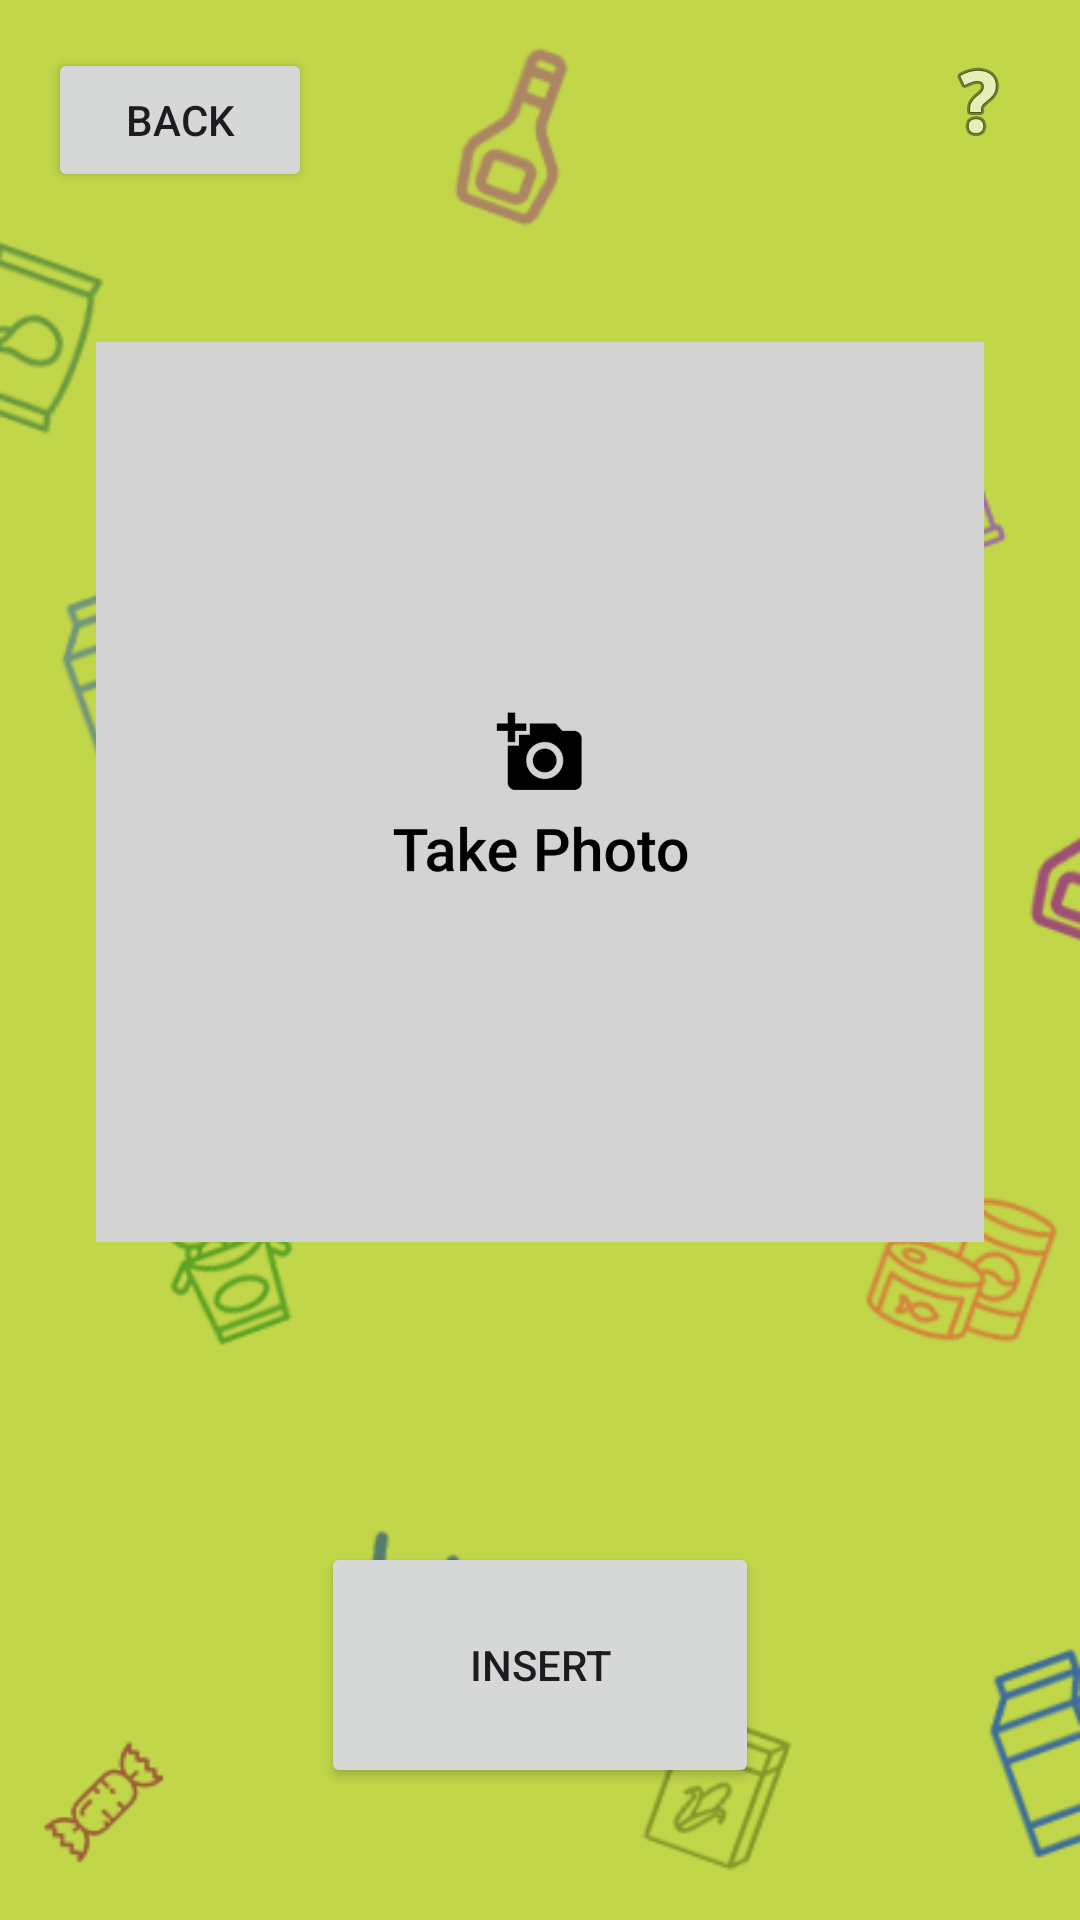

Locate icon controls on the screen. Image size 1080 × 1920, boxes as (x1, y1, x2, y2).
Help: (957, 68, 999, 136)
